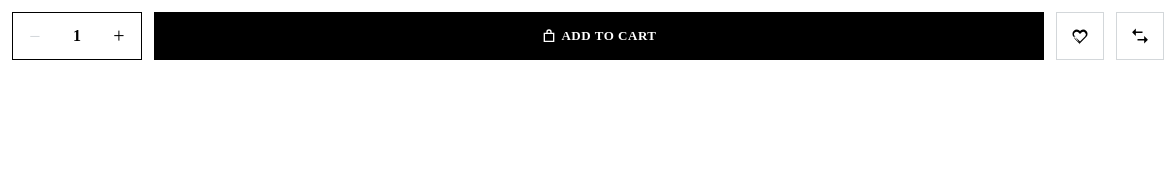
ProductActions with a quantity picker (product page) › moves by the backend step (weighed products) from the minimum
This screenshot has width=1176, height=172.
Expected: the button named "Decrease quantity" is disabled, [13,13,57,59]
Click the button named "Increase quantity" at (119,36), box [97,13,141,59]
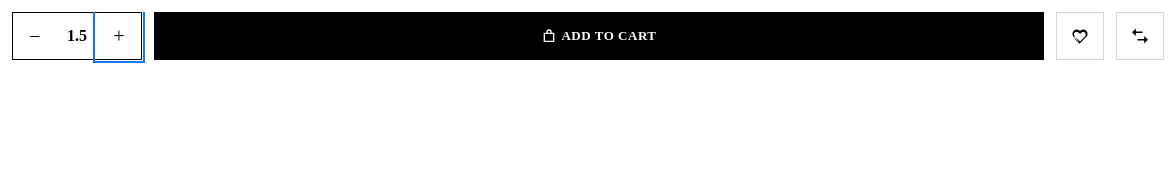
Expected: the text with test id "product-quantity" reads "1.5", [67,27,87,44]
